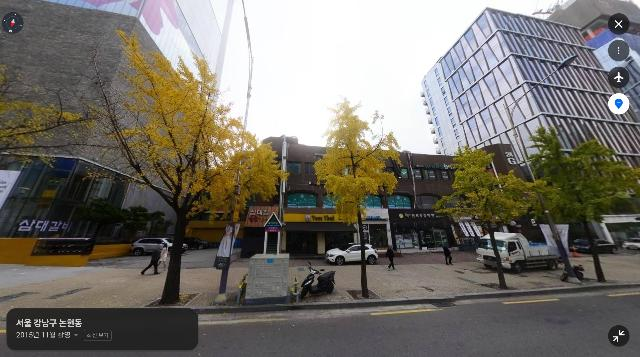ginkgo: (88, 28, 290, 306), (313, 96, 404, 299), (431, 145, 541, 290)
